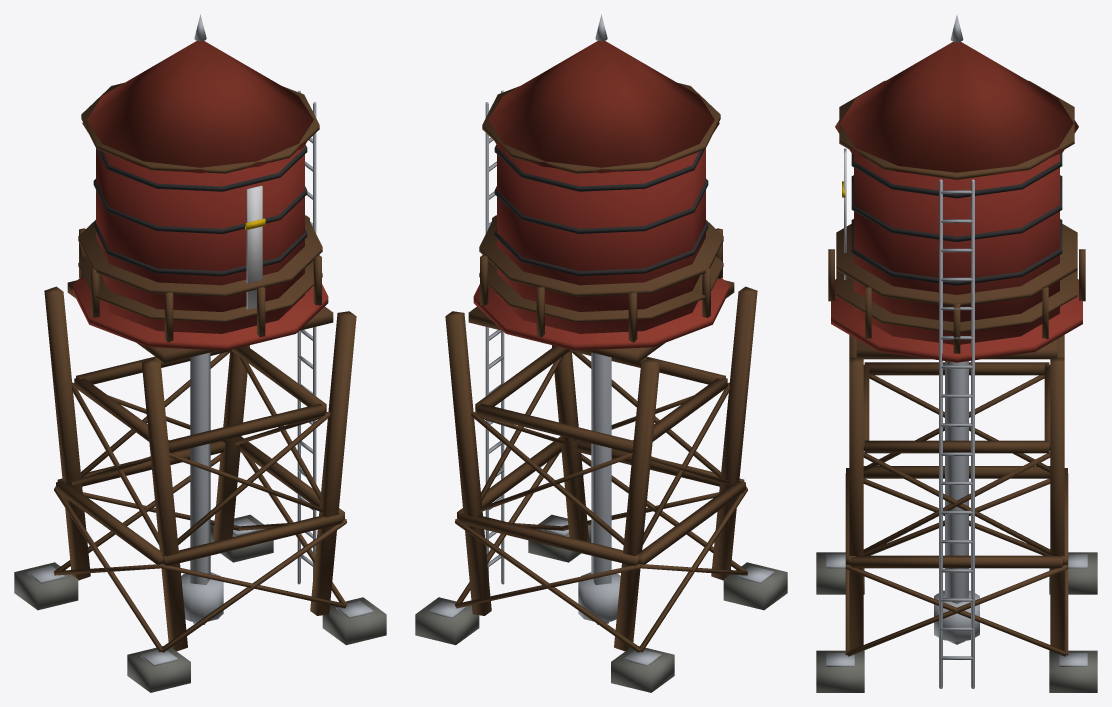
File: water_tower.glb
3 views of the same model, side by side, from view 1: azimuth 30°, elevation 25°; view 2: azimuth 150°, elevation 25°; view 3: azimuth 270°, elevation 25° (orthographic). The views are drawn at different scales.
Parts seen in each view (by area): view 1: water_tower; view 2: water_tower; view 3: water_tower.
Boxes of the visible parts, left/top/right/bottom form: water_tower: left=14, top=14, right=386, bottom=692; water_tower: left=415, top=14, right=787, bottom=692; water_tower: left=816, top=15, right=1097, bottom=692.
Size of the model in its own units: 3.5 by 8.66 by 3.5.
